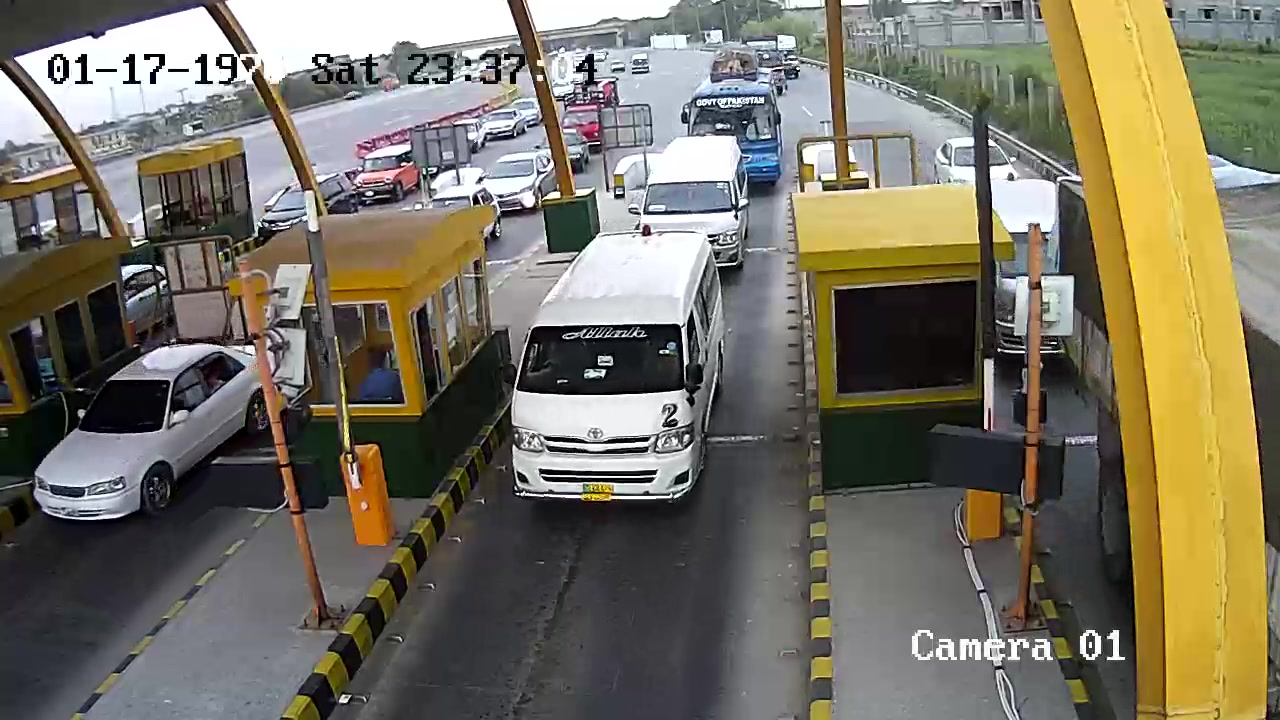F2: (504, 227, 743, 511)
